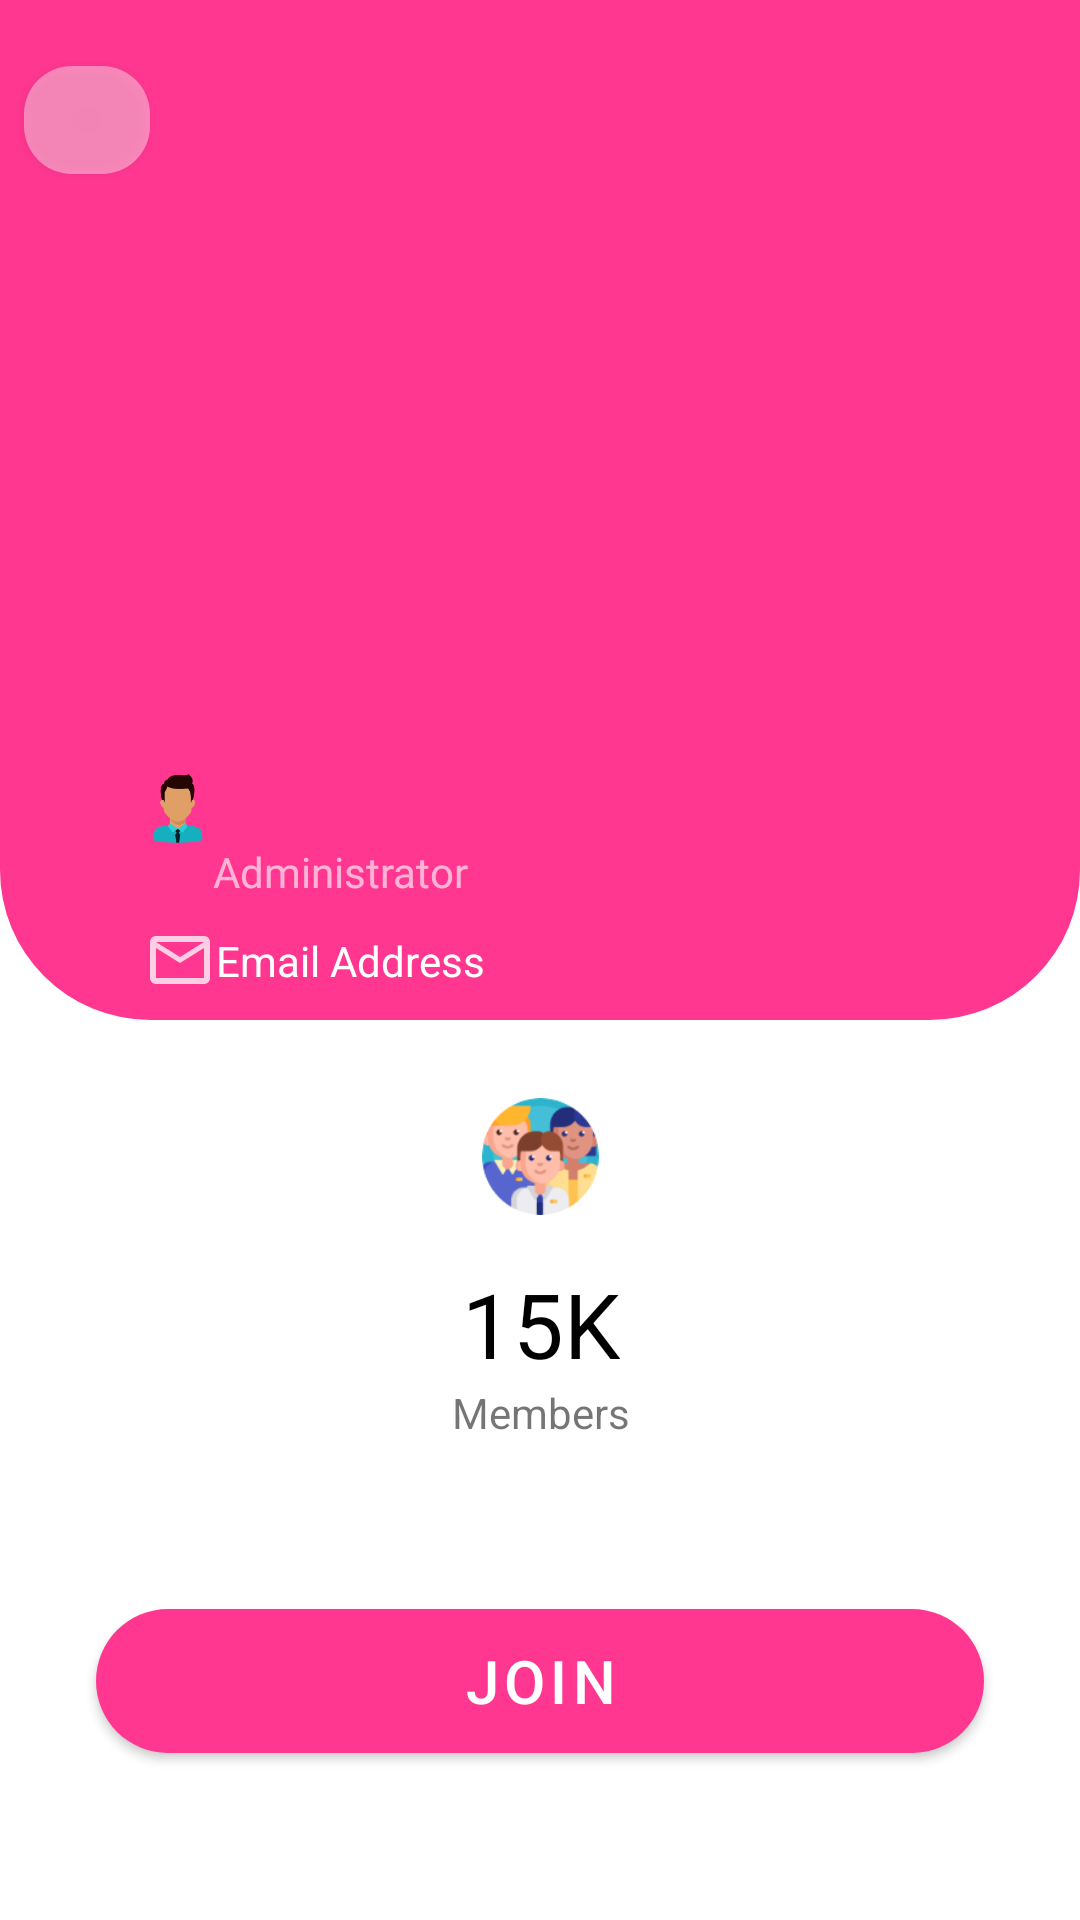

Where to tap for icons on this 1080w x 1920h app screen, as (x=x, y=y):
man: (x=178, y=808)
people: (x=540, y=1156)
